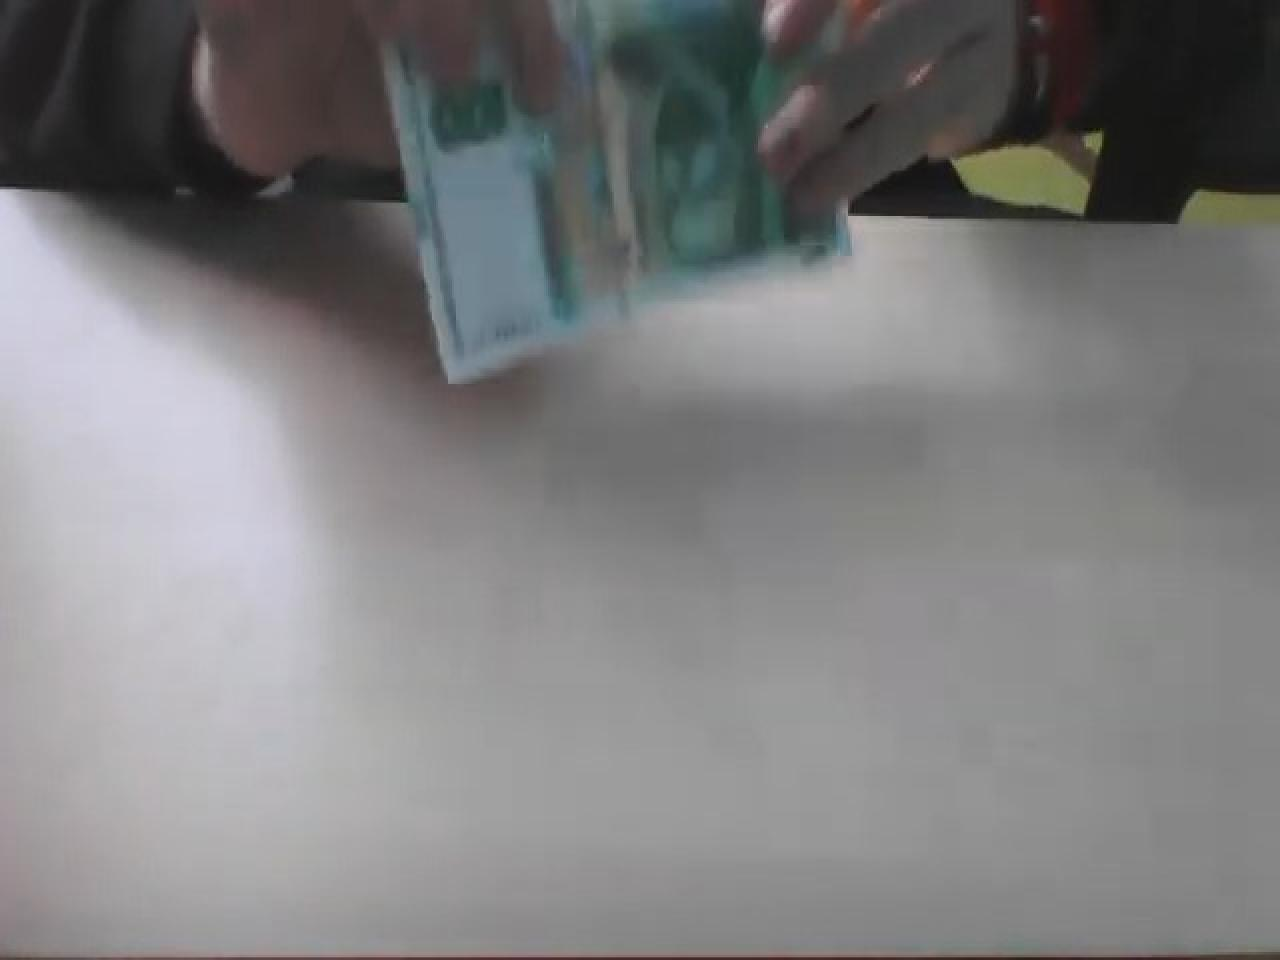10leva: (322, 0, 840, 384)
